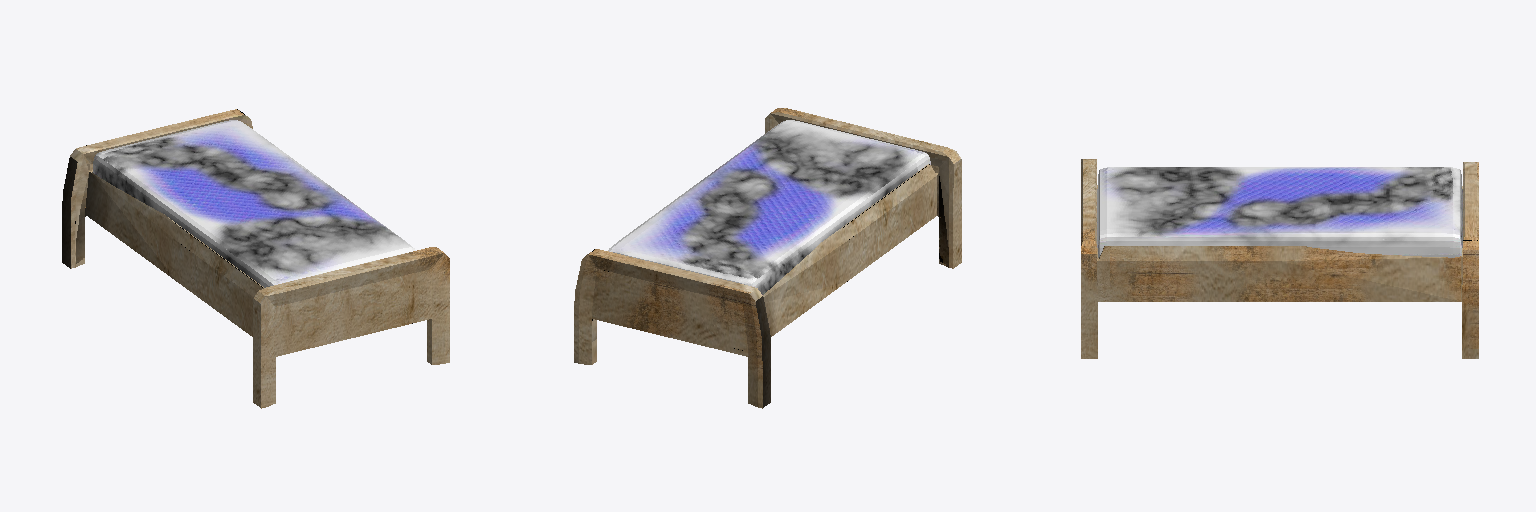
3 views of the same model, side by side, from view 1: azimuth 30°, elevation 25°; view 2: azimuth 150°, elevation 25°; view 3: azimuth 270°, elevation 25° (orthographic).
Visible parts, largest first — view 1: CamaStruc_Cube.002, colchon.low_Cube.004; view 2: CamaStruc_Cube.002, colchon.low_Cube.004; view 3: colchon.low_Cube.004, CamaStruc_Cube.002.
Boxes of the visible parts, x1=… form: CamaStruc_Cube.002: x1=62, y1=109, x2=449, y2=408; colchon.low_Cube.004: x1=93, y1=120, x2=415, y2=287; CamaStruc_Cube.002: x1=574, y1=108, x2=961, y2=408; colchon.low_Cube.004: x1=608, y1=120, x2=930, y2=294; colchon.low_Cube.004: x1=1097, y1=167, x2=1462, y2=257; CamaStruc_Cube.002: x1=1081, y1=159, x2=1478, y2=358.
Size of the model in its own units: 3.77 by 2.17 by 6.91.
Materials: 3 (3 with a texture image).